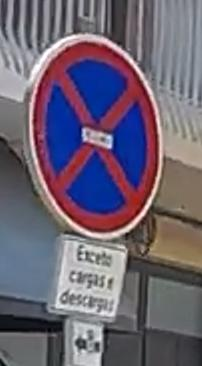paragem e estacionamento proibido: (20, 32, 166, 243)
